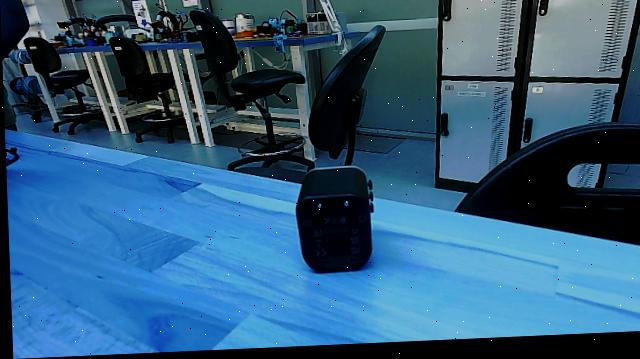adapter: (291, 162, 379, 283)
